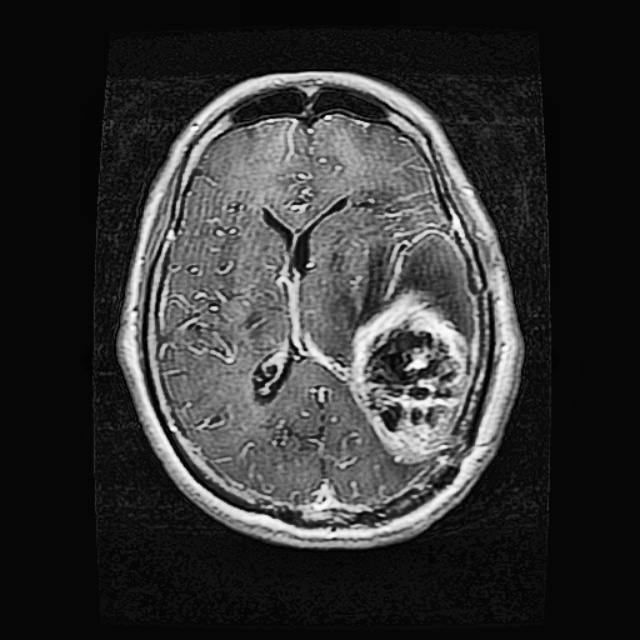Glioma: (350, 292, 473, 462)
